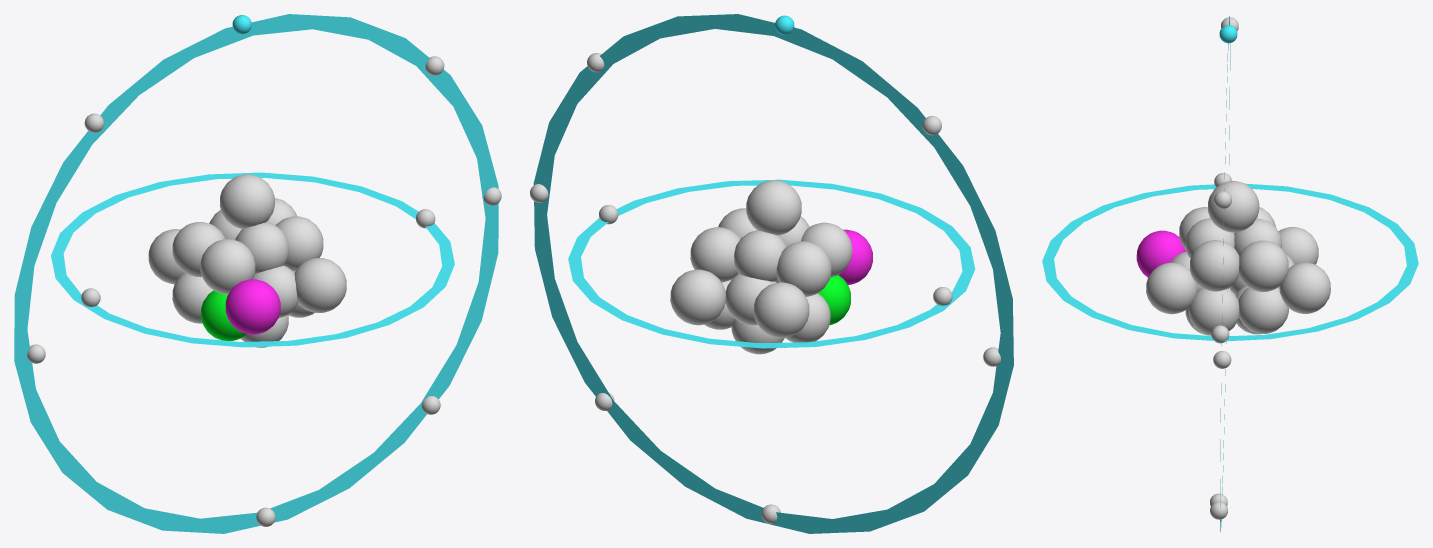
Rendered from fluorineatom.fbx.
The picture shows the model from 3 angles, left to right: view 1: azimuth 30°, elevation 25°; view 2: azimuth 150°, elevation 25°; view 3: azimuth 270°, elevation 25°; orthographic projection. The views are drawn at different scales.
Visible parts, largest first — view 1: electron_cloud_two_, sphere (×6), spher (×6), electron_cloud_one_; view 2: electron_cloud_two_, spher (×7), sphere (×6), electron_cloud_one_; view 3: spher (×6), sphere (×6), electron_cloud_one_.
Boxes of the visible parts, x1=… form: electron_cloud_two_: x1=14, y1=14, x2=498, y2=533; sphere (×6): x1=172, y1=216, x2=346, y2=347; spher (×6): x1=148, y1=174, x2=298, y2=340; electron_cloud_one_: x1=51, y1=172, x2=454, y2=347; electron_cloud_two_: x1=533, y1=14, x2=1013, y2=533; spher (×7): x1=670, y1=180, x2=850, y2=354; sphere (×6): x1=718, y1=208, x2=872, y2=342; electron_cloud_one_: x1=568, y1=179, x2=975, y2=348; spher (×6): x1=1185, y1=181, x2=1330, y2=335; sphere (×6): x1=1136, y1=207, x2=1288, y2=333; electron_cloud_one_: x1=1042, y1=183, x2=1418, y2=341.
Bounding box in the file's own units: 8.17 × 8.27 × 5.93.
